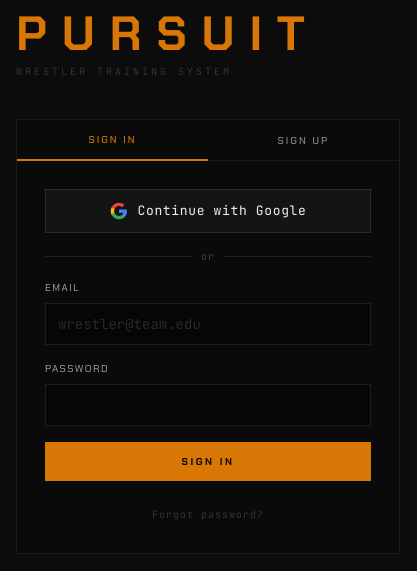
Test case: Auth › forgot password — shows reset form and hides tabs
What coordinates should you click on to do the following:
click the button "Forgot password?"
I would click on:
 (208, 514)
Its box is x1=152 y1=507 x2=264 y2=522.
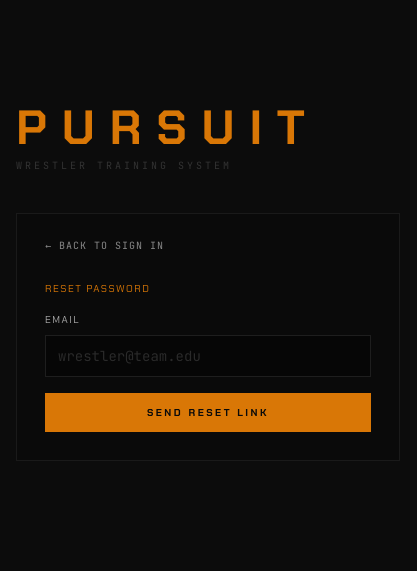
Expected: the button "SIGN UP" is gone
Expected: the text "RESET PASSWORD" is shown, x1=45 y1=282 x2=150 y2=294
Expected: the button "← BACK TO SIGN IN" is shown, x1=45 y1=238 x2=164 y2=252
